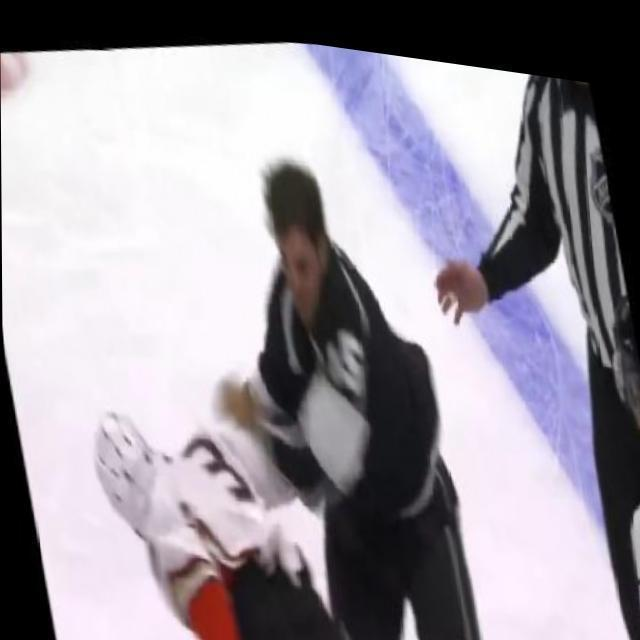fight: (32, 89, 494, 640)
